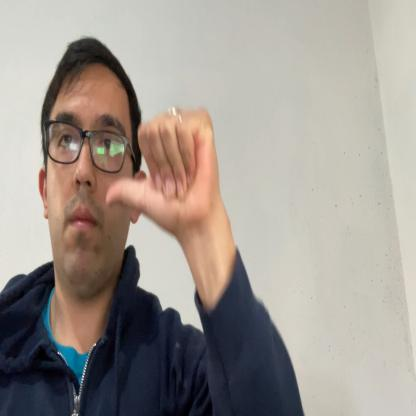A: (104, 106, 220, 234)
